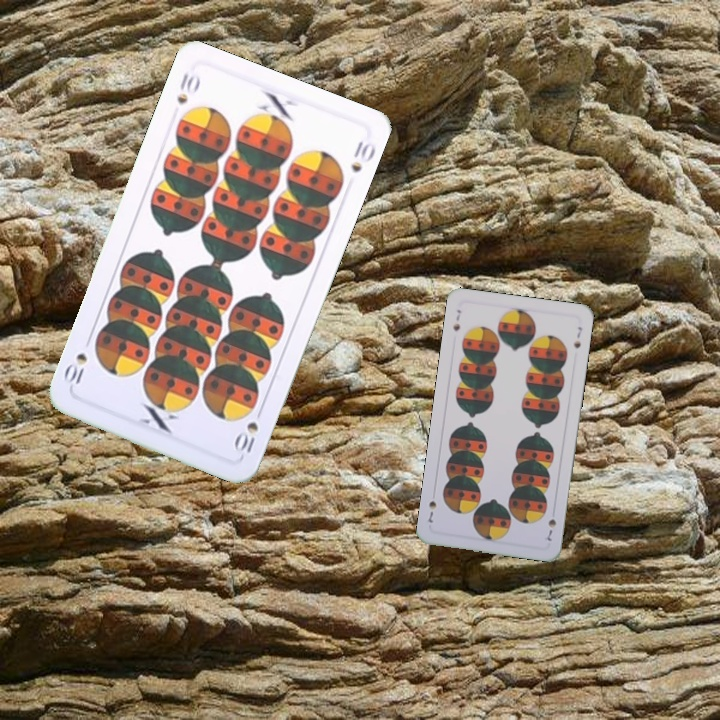S10: (230, 403, 264, 456), (172, 69, 203, 107)
S7: (543, 515, 559, 544), (449, 305, 463, 333)
